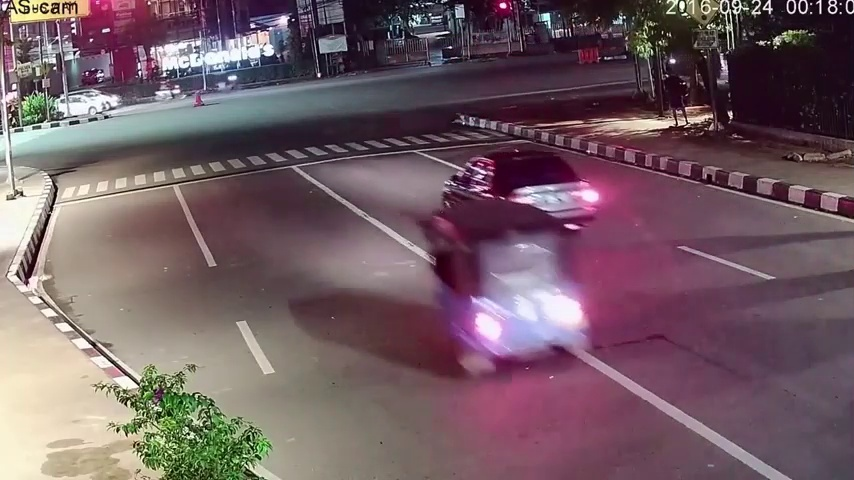car: (425, 203, 594, 372), (444, 149, 596, 238), (53, 93, 108, 111)
